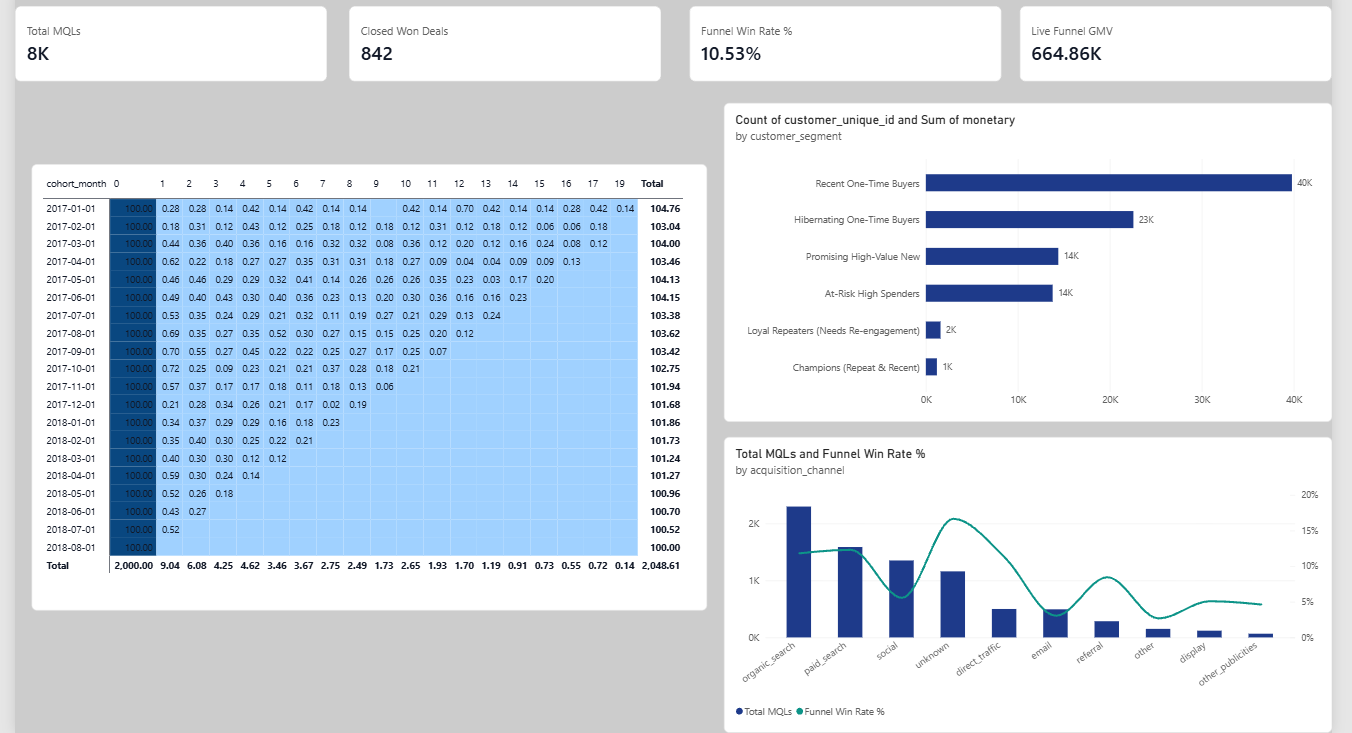

The dashboard page shown, as its layout file describes it:
{"tool":"powerbi","page":{"name":"Retention & Seller Funnel","canvas":[1920,1080],"ordinal":1},"visuals":[{"type":"cardVisual","fields":{"Data":["_Measures.Total MQLs"]},"box":[0,20,455,110],"z":0},{"type":"cardVisual","fields":{"Data":["_Measures.Closed Won Deals"]},"box":[487.9,20.1,455,110],"z":1},{"type":"cardVisual","fields":{"Data":["_Measures.Funnel Win Rate %"]},"box":[983.6,20.5,455,110],"z":2},{"type":"cardVisual","fields":{"Data":["_Measures.Live Funnel GMV"]},"box":[1465.1,20.5,455,110],"z":3},{"type":"pivotTable","fields":{"Columns":["vw_cohort_retention.cohort_index"],"Rows":["vw_cohort_retention.cohort_month"],"Values":["Sum(vw_cohort_retention.retention_rate_pct)"]},"box":[24.2,251,985.4,650.7],"z":4},{"type":"clusteredBarChart","fields":{"Category":["vw_customer_rfm.customer_segment"],"Y":["CountNonNull(vw_customer_rfm.customer_unique_id)"]},"box":[1033.8,161.8,886.9,464.8],"z":5},{"type":"lineClusteredColumnComboChart","fields":{"Category":["vw_marketing_funnel.acquisition_channel"],"Y":["_Measures.Total MQLs"],"Y2":["_Measures.Funnel Win Rate %"]},"box":[1033.8,648.9,886.9,431.3],"z":6}]}

Visuals, with their boxes on the page's 1920x1080 design canvas (x1, y1, x2, y2). These are canvas units, not pixel positions in the 1352x733 screenshot, which may show the page scaled, cropped or inside an application window:
cardVisual - _Measures.Total MQLs: bbox=(0, 20, 455, 130)
cardVisual - _Measures.Closed Won Deals: bbox=(488, 20, 943, 130)
cardVisual - _Measures.Funnel Win Rate %: bbox=(984, 20, 1439, 130)
cardVisual - _Measures.Live Funnel GMV: bbox=(1465, 20, 1920, 130)
pivotTable - vw_cohort_retention.cohort_index x vw_cohort_retention.cohort_month: bbox=(24, 251, 1010, 902)
clusteredBarChart - vw_customer_rfm.customer_segment x CountNonNull(vw_customer_rfm.customer_unique_id): bbox=(1034, 162, 1921, 627)
lineClusteredColumnComboChart - vw_marketing_funnel.acquisition_channel x _Measures.Total MQLs: bbox=(1034, 649, 1921, 1080)
